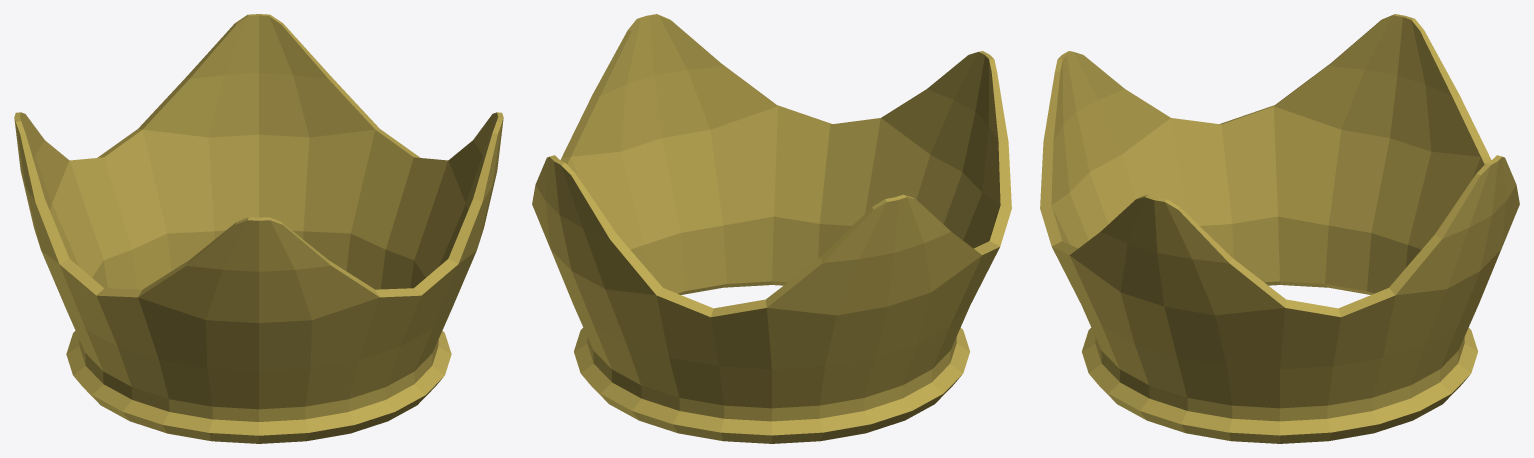
The model's file is Crown.glb.
3 views of the same model, side by side, from view 1: azimuth 30°, elevation 25°; view 2: azimuth 150°, elevation 25°; view 3: azimuth 270°, elevation 25° (orthographic). The views are drawn at different scales.
Parts seen in each view (by area): view 1: Crown; view 2: Crown; view 3: Crown.
Boxes of the visible parts, bbox=[...] form: Crown: bbox=[14, 14, 503, 443]; Crown: bbox=[532, 14, 1011, 443]; Crown: bbox=[1040, 14, 1519, 443].
Bounding box in the file's own units: 0.133 × 0.0787 × 0.133.
